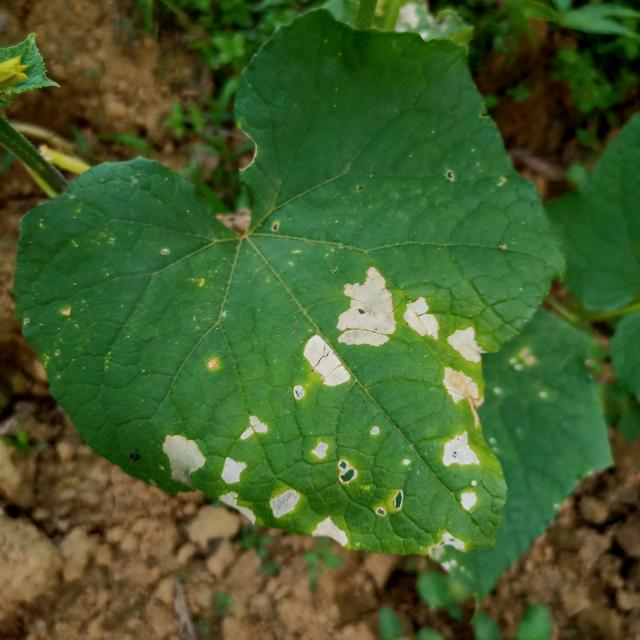disease_cucumber: (304, 268, 397, 392), (442, 326, 482, 404), (444, 432, 479, 513), (312, 438, 362, 486), (220, 458, 258, 520), (161, 435, 207, 485), (404, 296, 442, 339), (312, 514, 351, 547), (270, 486, 304, 521), (238, 415, 271, 444)
